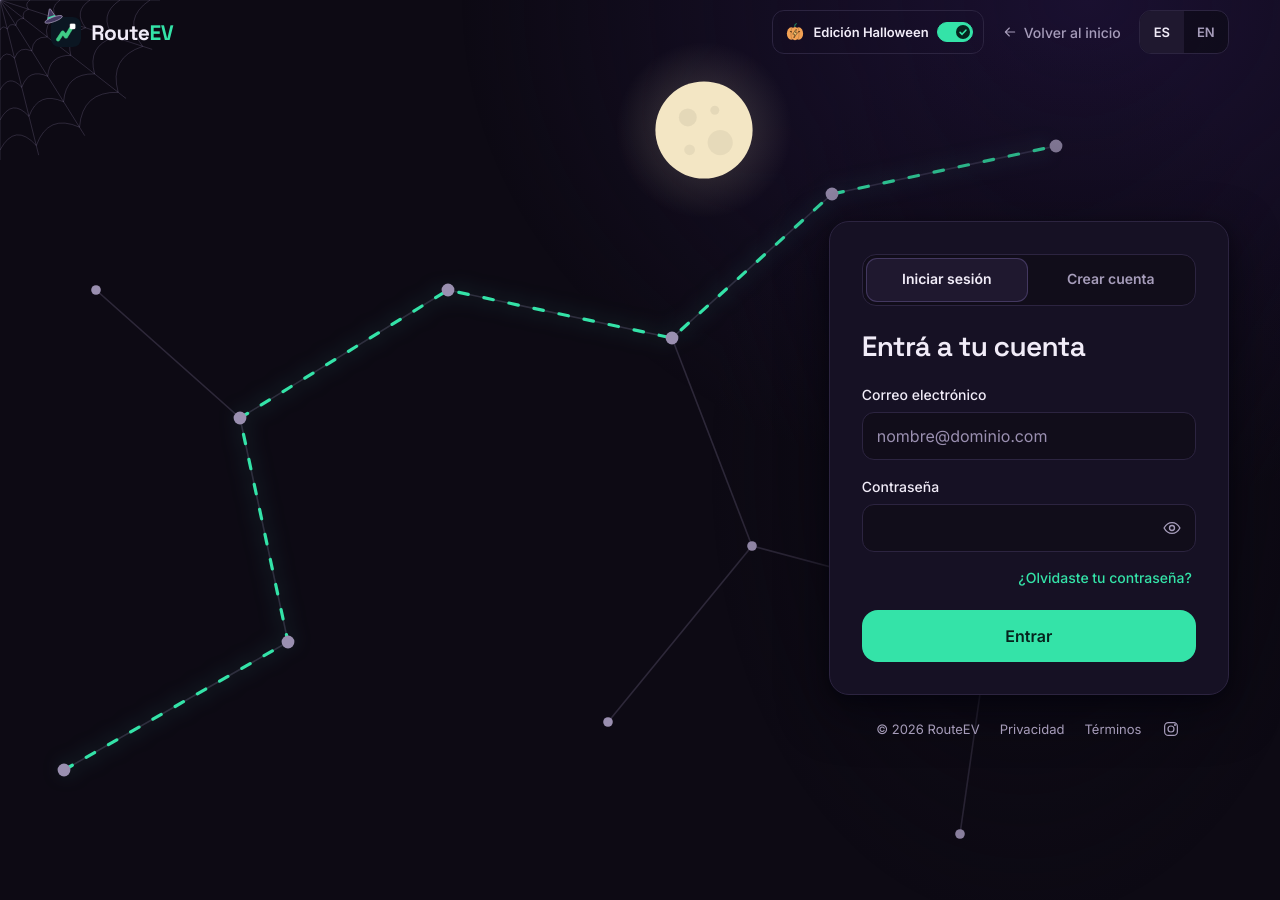
Test: LoginPage › muestra el error de la API tal cual
In the field labelled "Correo electrónico": (1029,436) [862,412,1196,460], type "marcela@gmail.com"
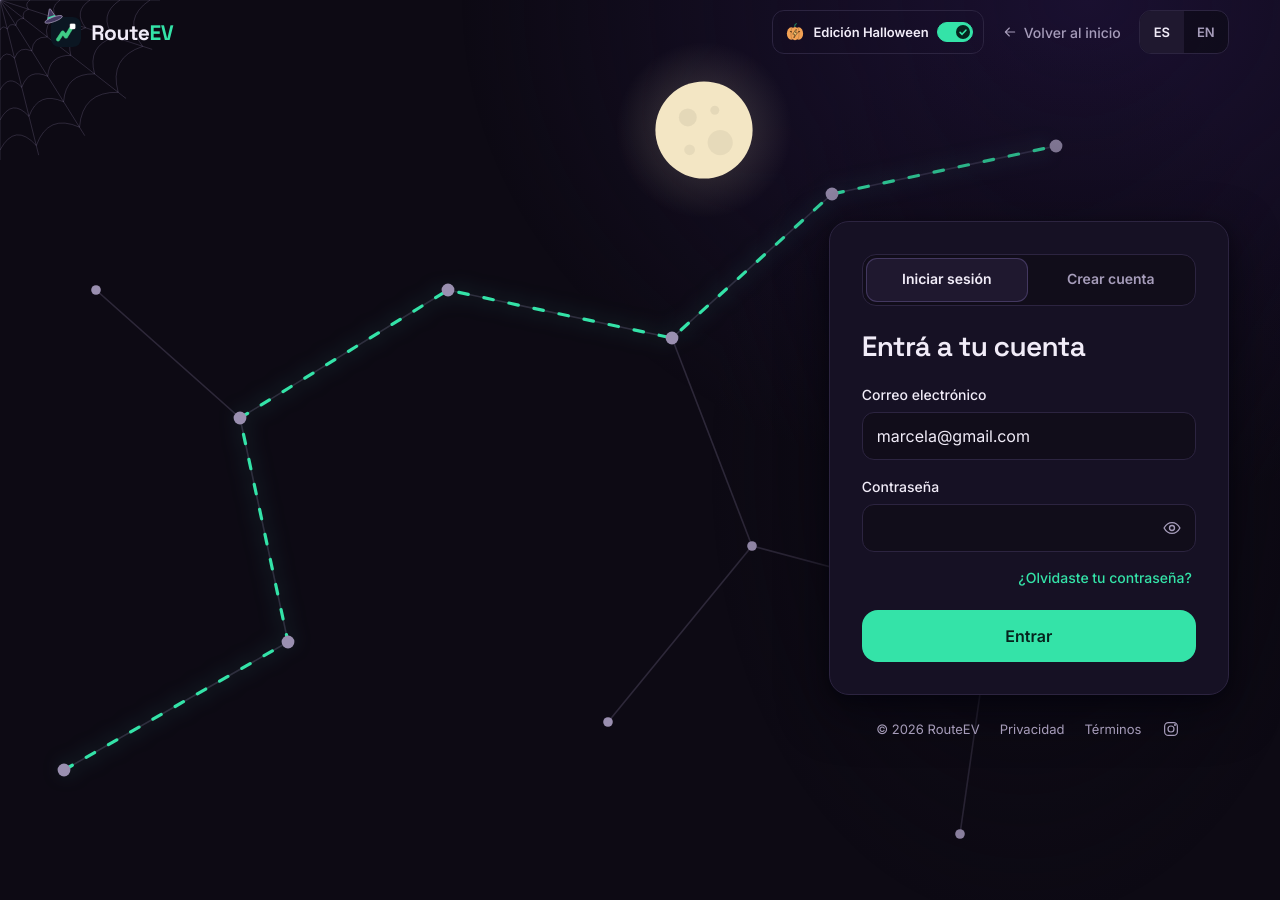
In the password field labelled "Contraseña": (1029,528) [862,504,1196,552], type "contraseña123"
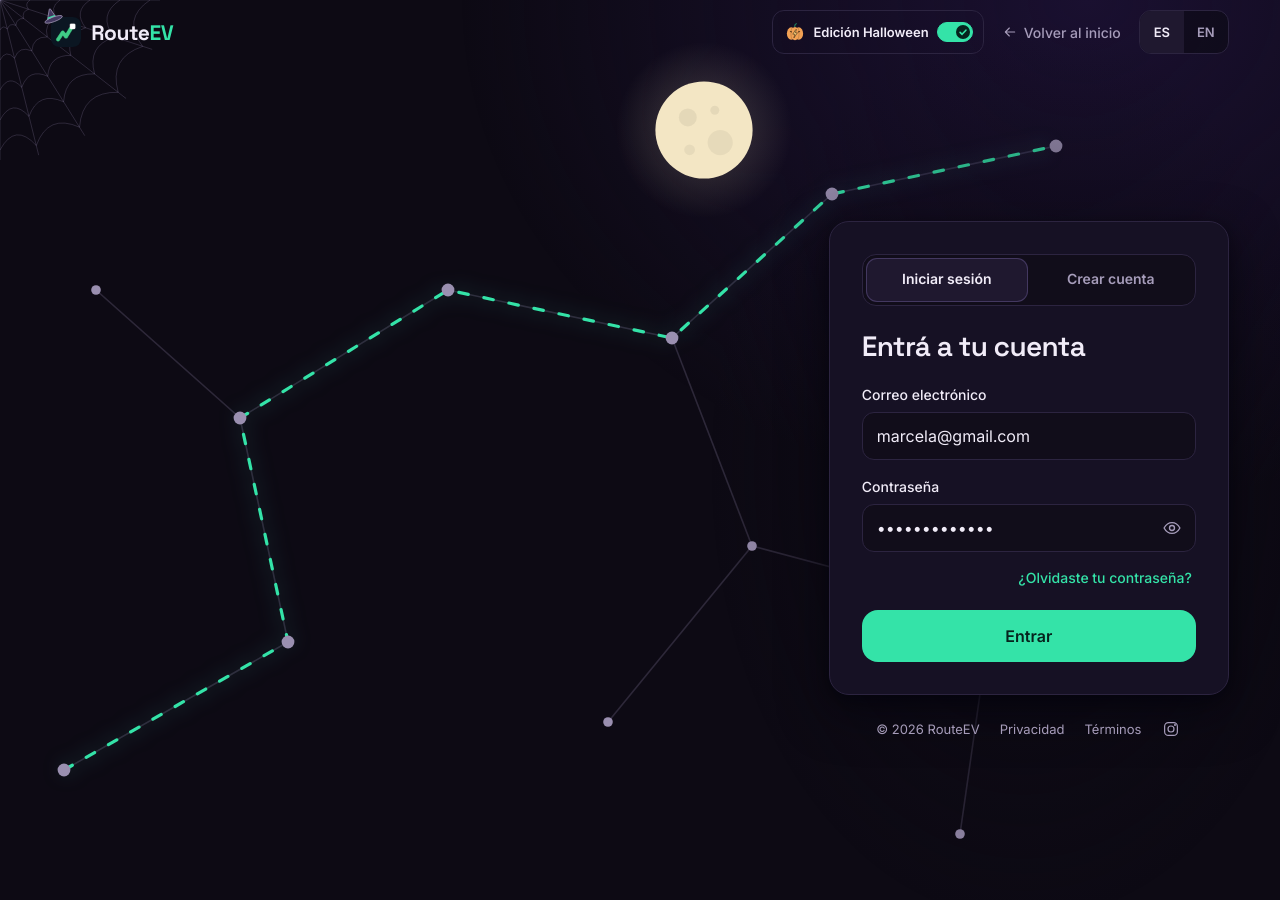
Click the button "Entrar": (1029,636) [862,610,1196,662]
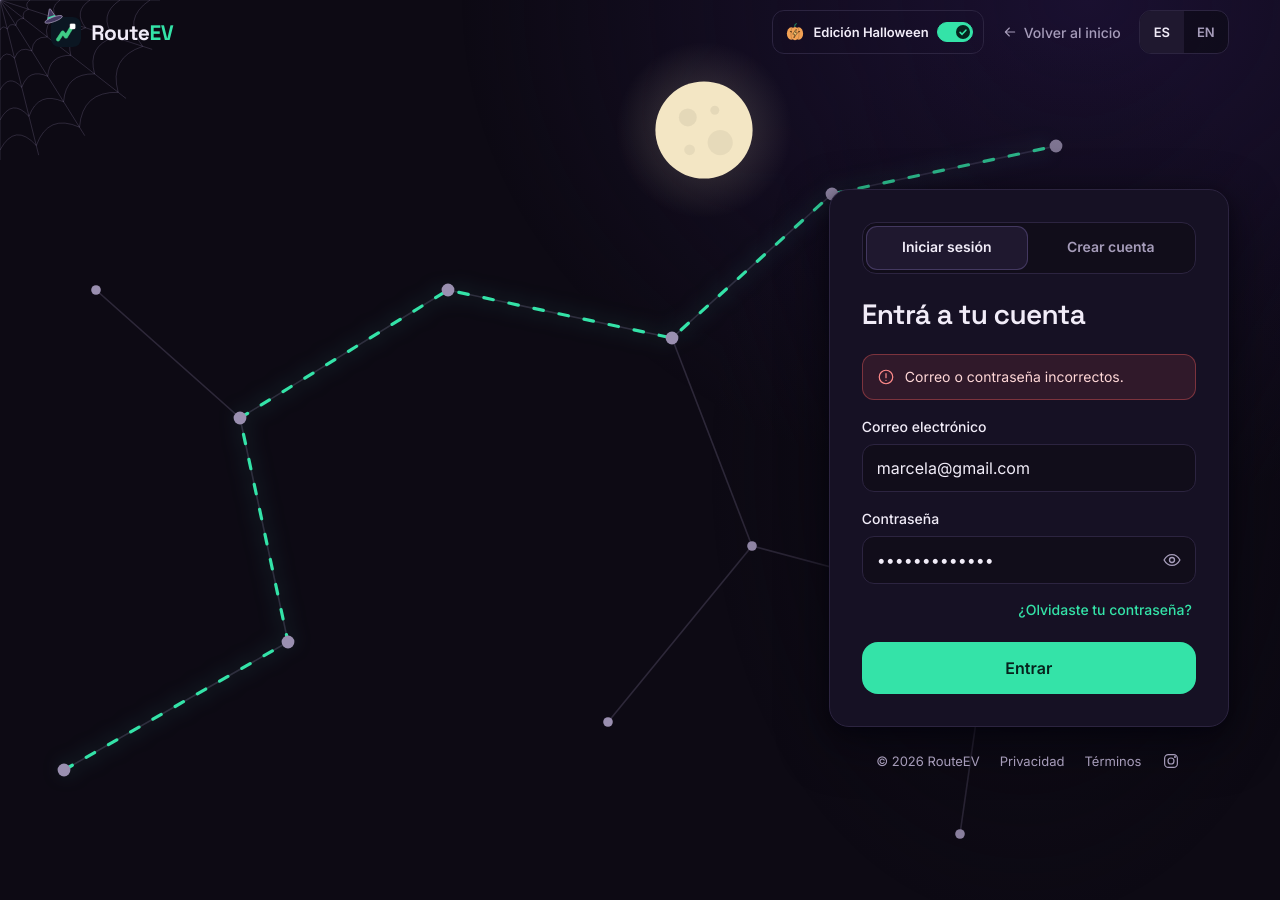
Expected: the message reads "Correo o contraseña incorrectos.", [905,368,1124,385]
